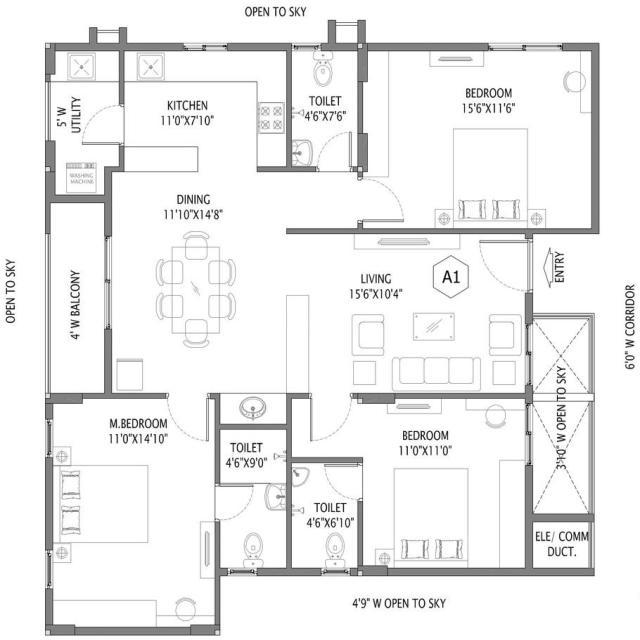Balcony-Sitout: (49, 195, 110, 396)
Bedroom: (364, 45, 596, 229)
Bedroom with Toilet: (47, 395, 288, 632), (289, 396, 527, 571)
Dining: (155, 228, 242, 353)
Enterance-Foyer: (479, 240, 567, 290)
Kitchen: (122, 45, 291, 172)
Living: (288, 230, 530, 394)
Toilet: (217, 427, 291, 571), (290, 47, 364, 168), (291, 456, 365, 576)
Utility: (46, 43, 124, 193)
